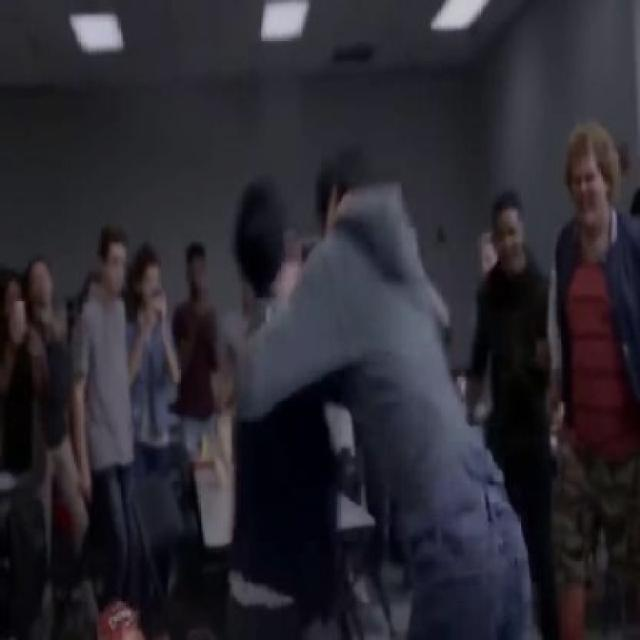fight: (210, 138, 540, 640)
non-fight: (545, 121, 640, 640), (464, 185, 549, 640), (68, 222, 152, 640), (168, 239, 240, 547), (0, 265, 47, 640)
